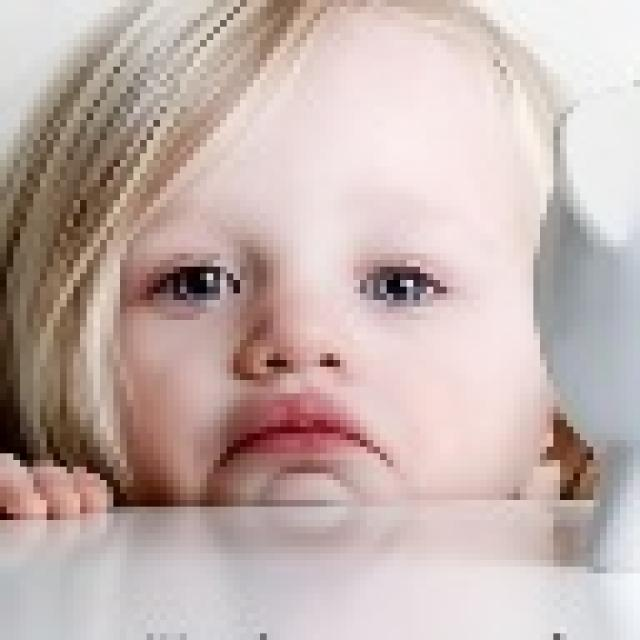sad: (70, 1, 554, 591)
